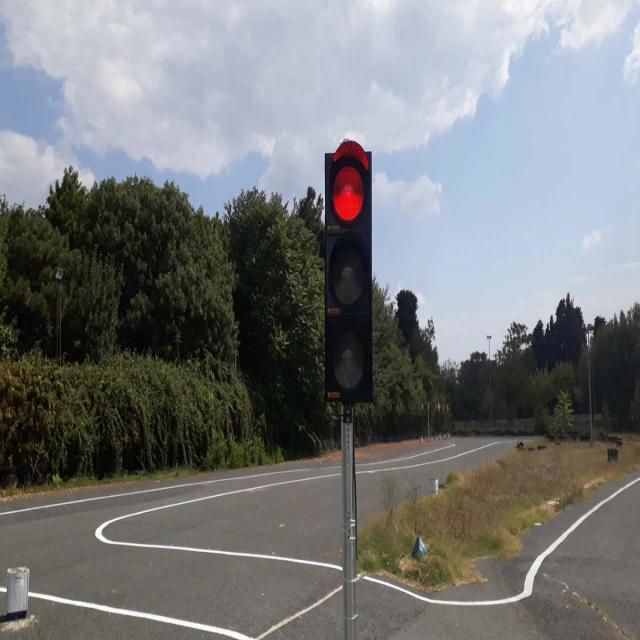kirmizi: (326, 146, 370, 399)
